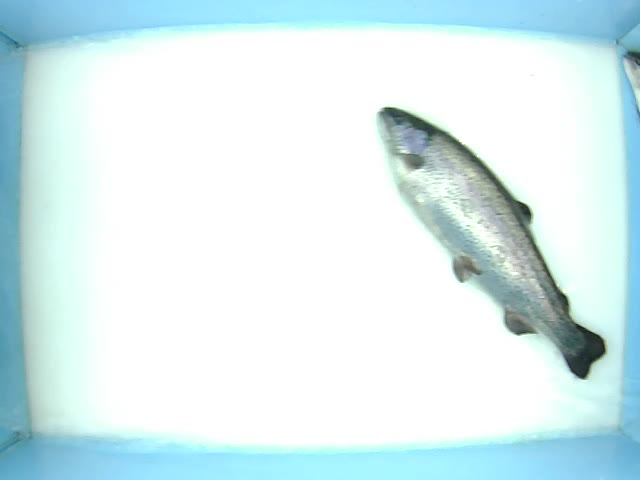fish: (375, 104, 608, 381)
